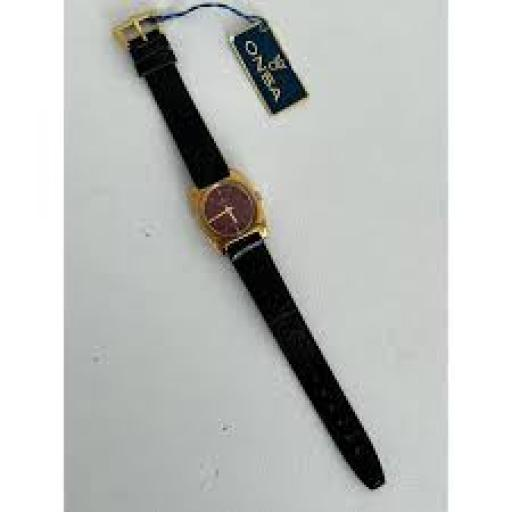KolSaati: (113, 17, 404, 498)
